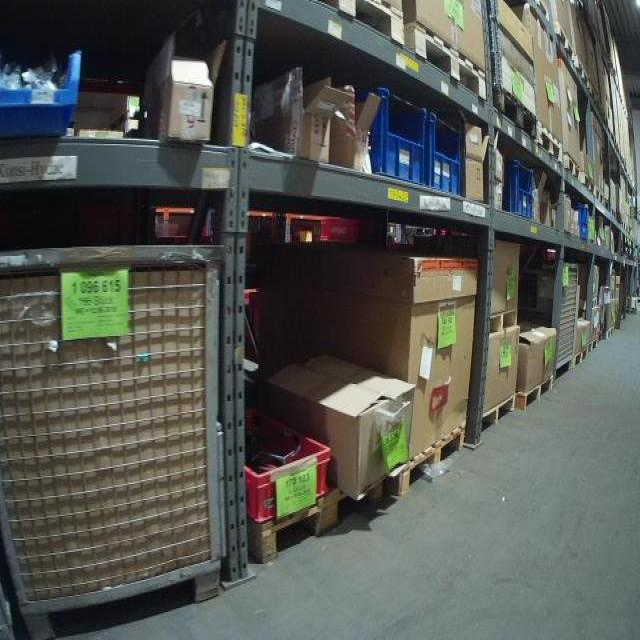pallet: (247, 467, 386, 564), (416, 21, 498, 99), (390, 419, 466, 503), (280, 1, 412, 42), (478, 392, 520, 438), (495, 91, 533, 138), (518, 370, 552, 413), (483, 306, 520, 340), (537, 121, 565, 165), (552, 28, 581, 70), (559, 151, 583, 187), (519, 0, 550, 27), (571, 345, 590, 369), (584, 173, 598, 199), (586, 333, 600, 355), (605, 324, 614, 341)
small_load_carrier: (237, 399, 336, 526), (337, 86, 429, 190), (429, 112, 463, 201), (501, 153, 535, 221), (574, 205, 591, 238)
stillage: (3, 237, 233, 640), (532, 261, 588, 381)
